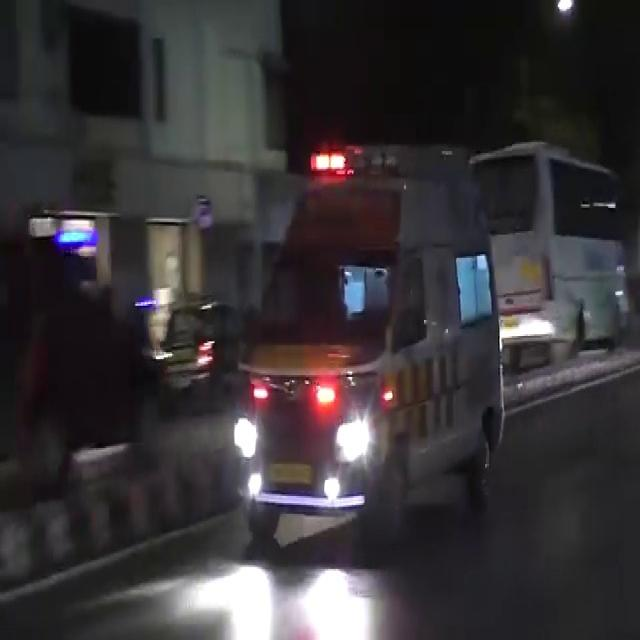ambulance: (237, 171, 506, 504)
